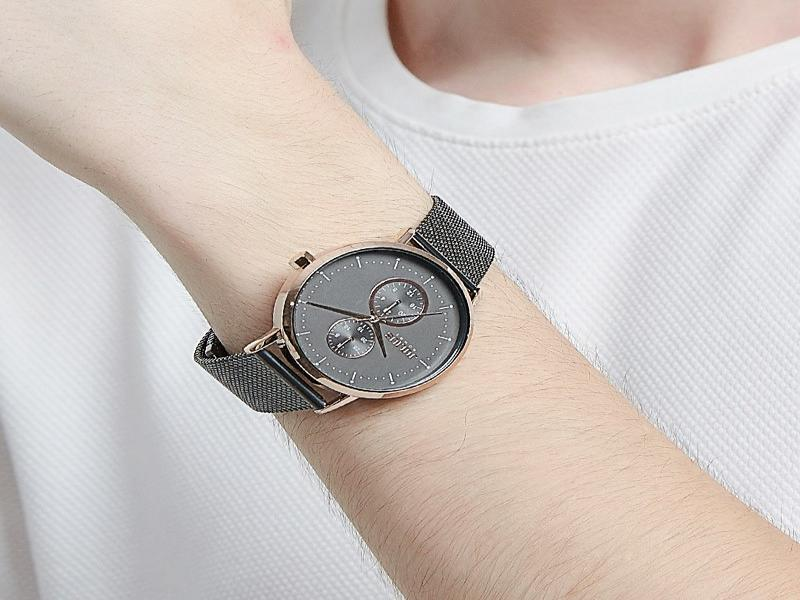watch: (192, 193, 498, 419)
